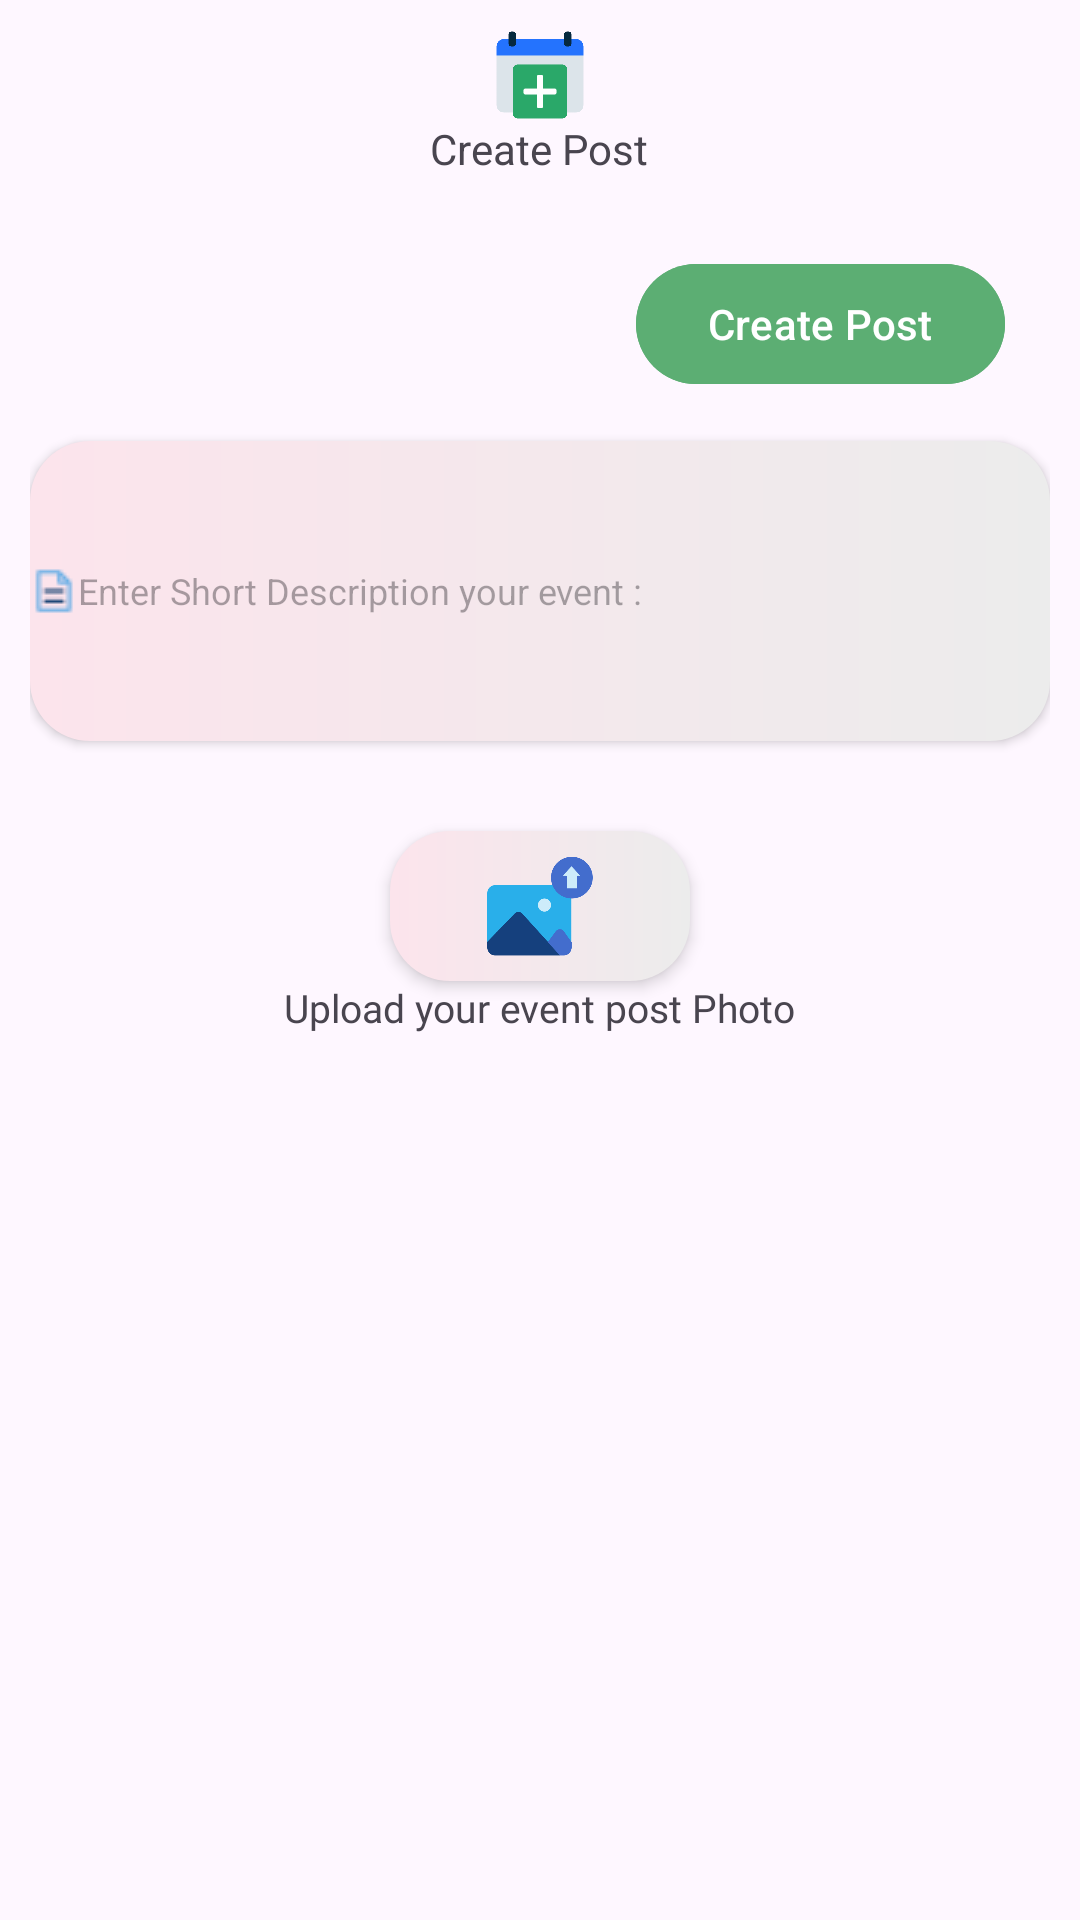

Icons on this 1080px×1920px Android screen, each with its box as box(x1, y1, x2, y2):
eventcreate: box(496, 31, 584, 119)
